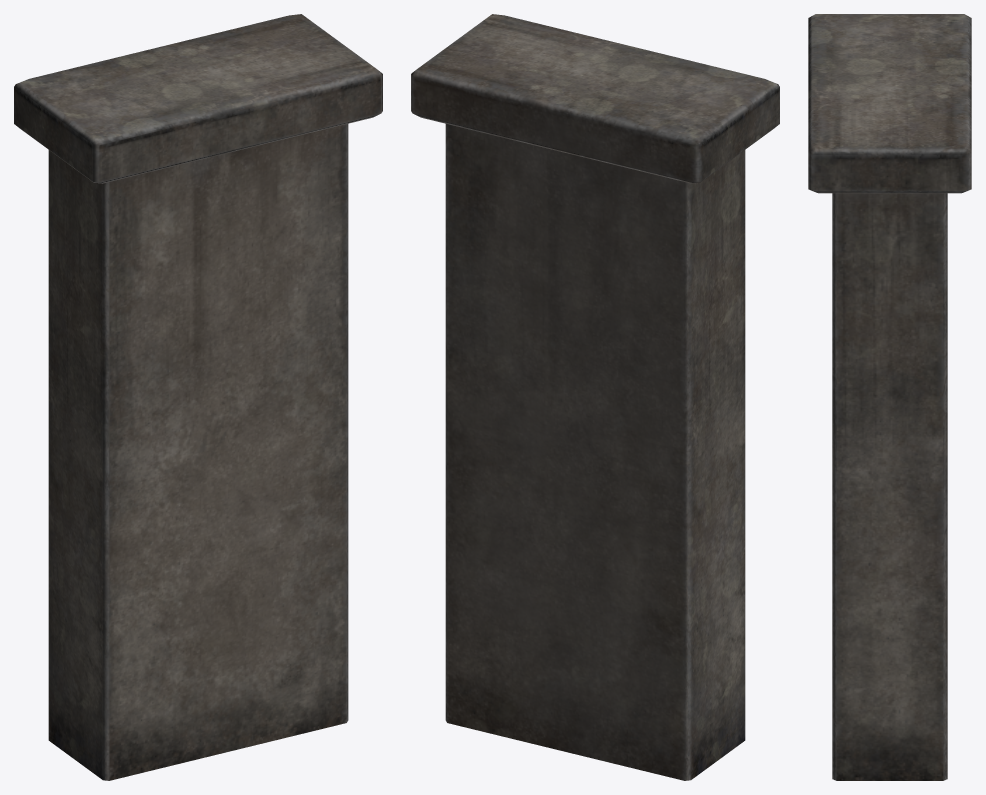
File: SM_RetainingWallPillar.fbx
3 views of the same model, side by side, from view 1: azimuth 30°, elevation 25°; view 2: azimuth 150°, elevation 25°; view 3: azimuth 270°, elevation 25° (orthographic). The views are drawn at different scales.
Parts seen in each view (by area): view 1: SM_RetainingWallPillar_LOD0; view 2: SM_RetainingWallPillar_LOD0; view 3: SM_RetainingWallPillar_LOD0.
Part boxes in pixels (x1,y1,x2,y2): SM_RetainingWallPillar_LOD0: [14, 14, 382, 780]; SM_RetainingWallPillar_LOD0: [411, 14, 779, 780]; SM_RetainingWallPillar_LOD0: [808, 14, 971, 780].
Bounding box in the file's own units: 68.77 × 34.31 × 148.
Materials: 1 (1 with a texture image).
